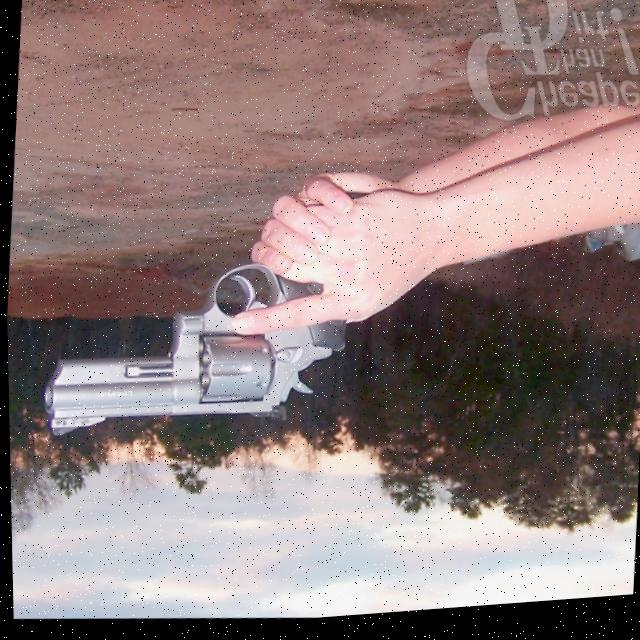pistol: (33, 244, 353, 462)
